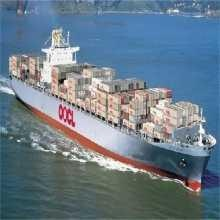Cargoship: (4, 33, 216, 192)
